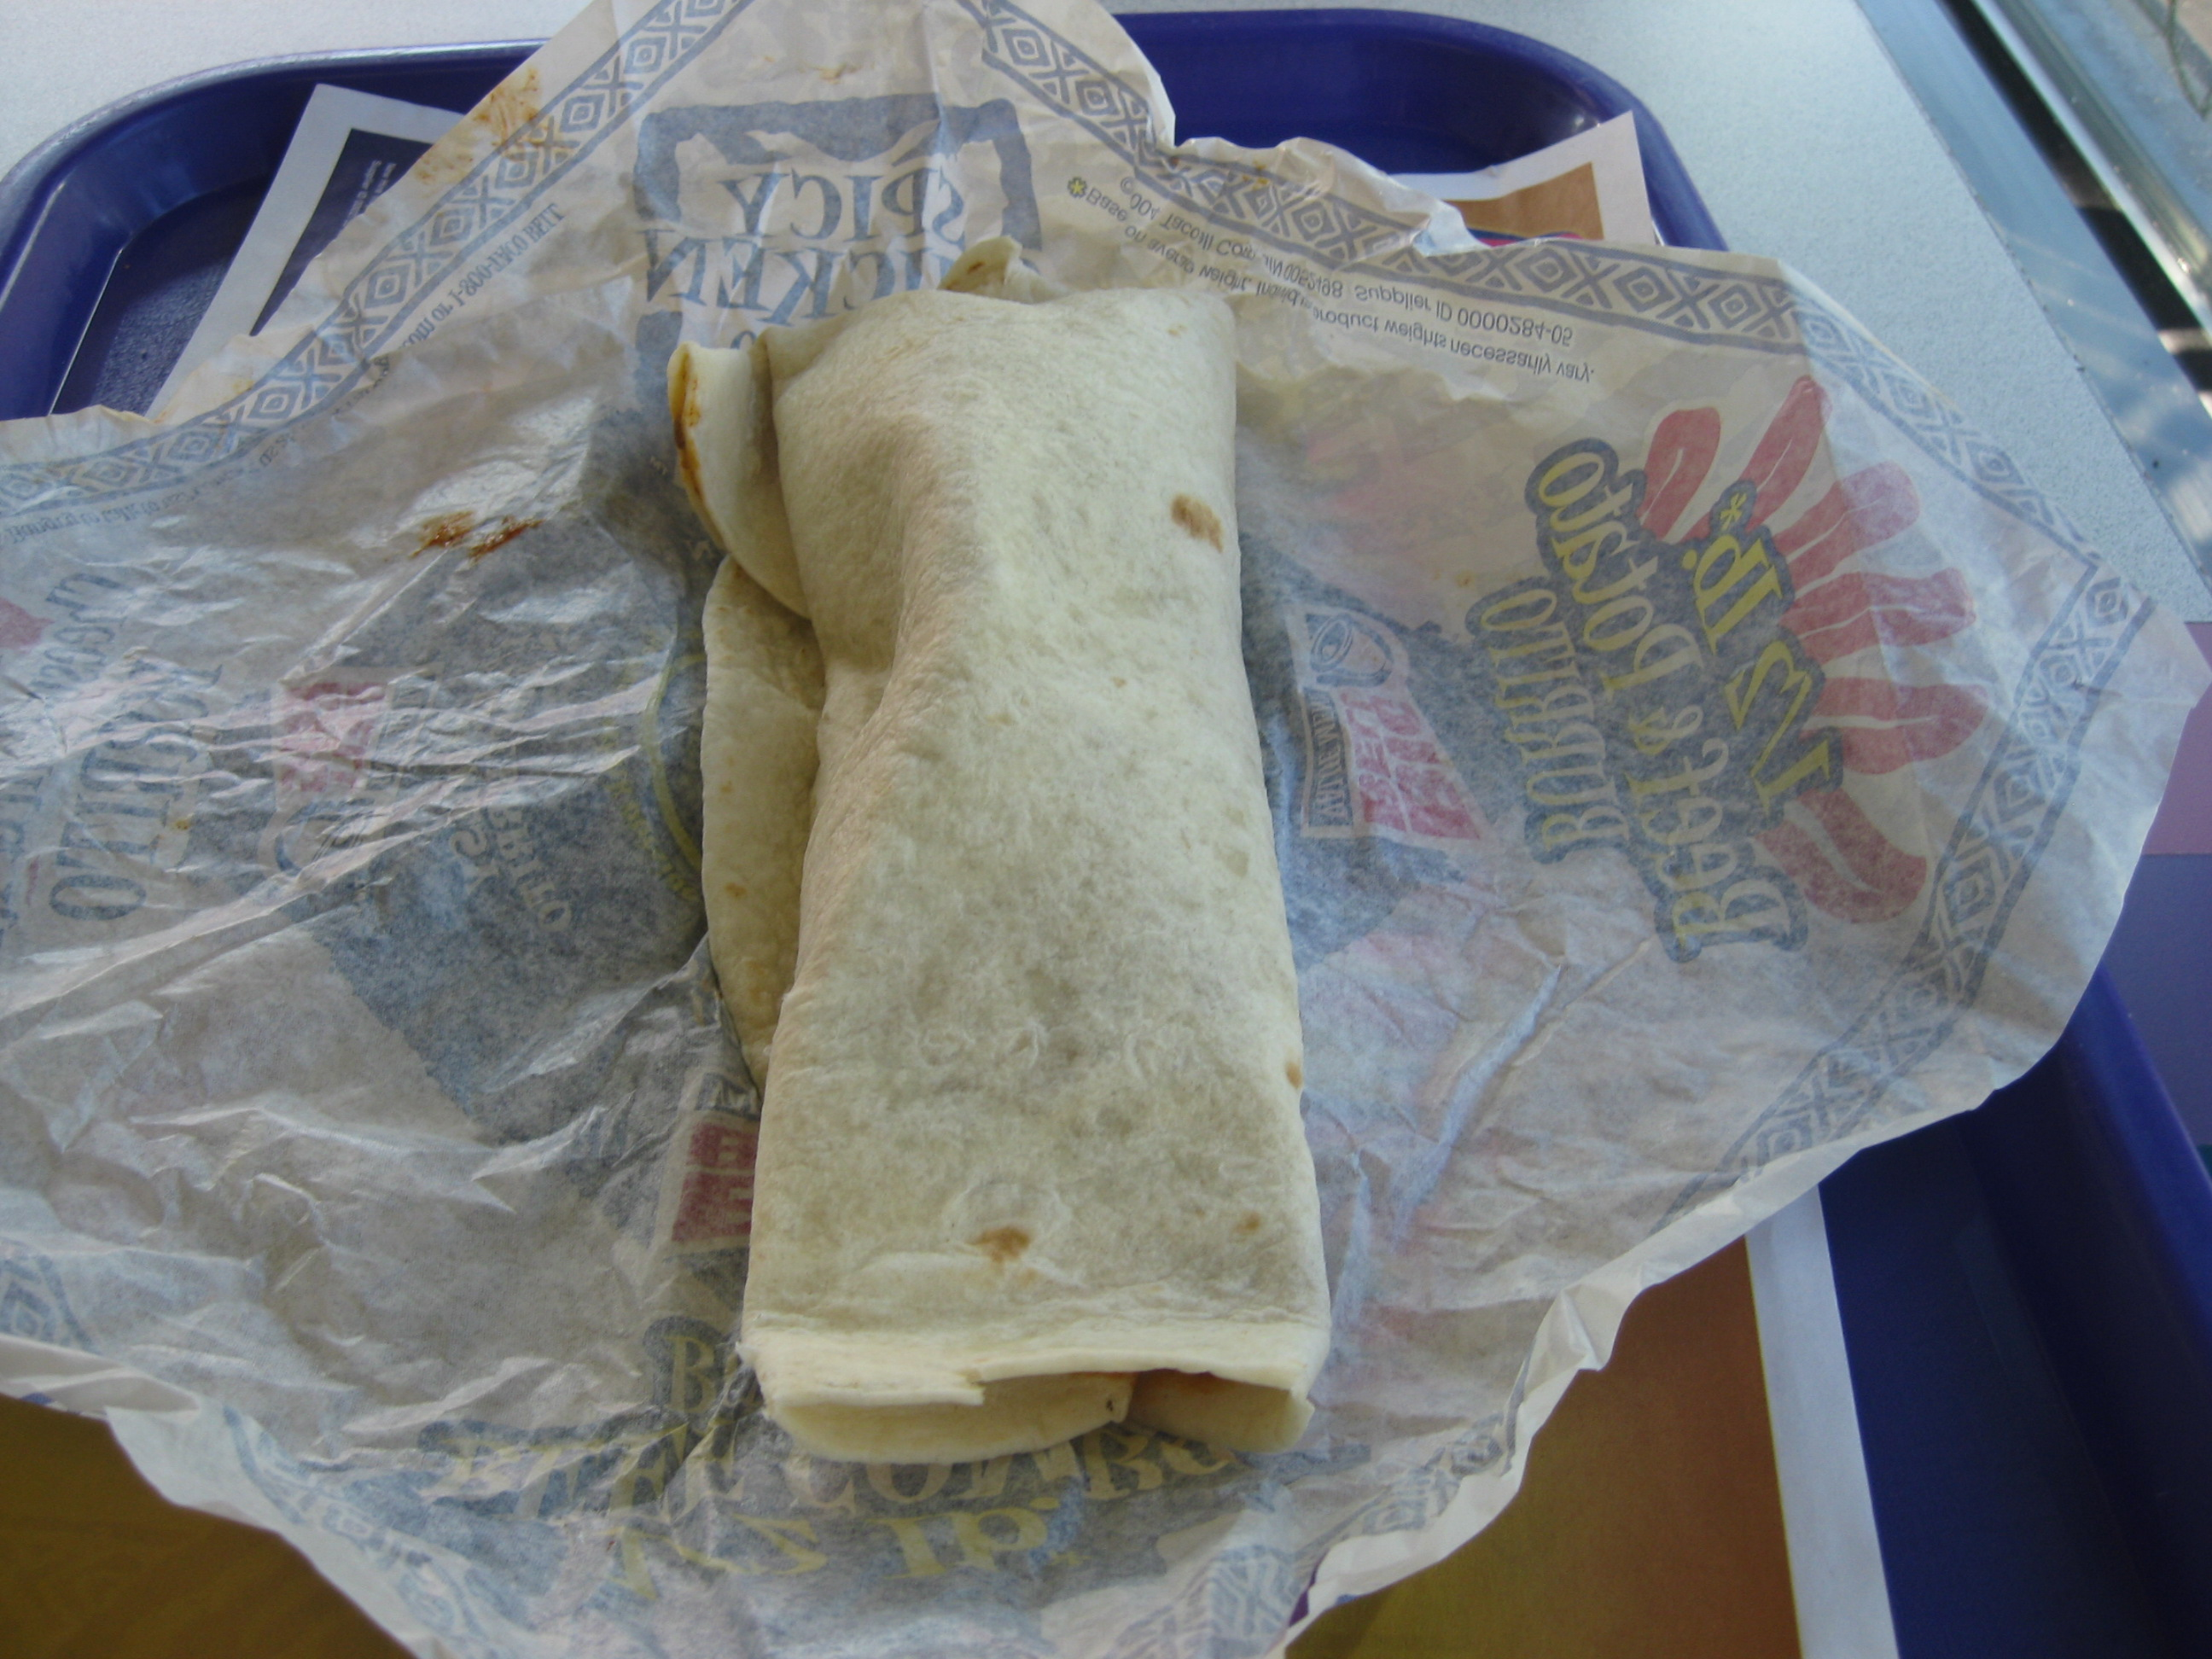burrito: (643, 289, 1446, 1463)
